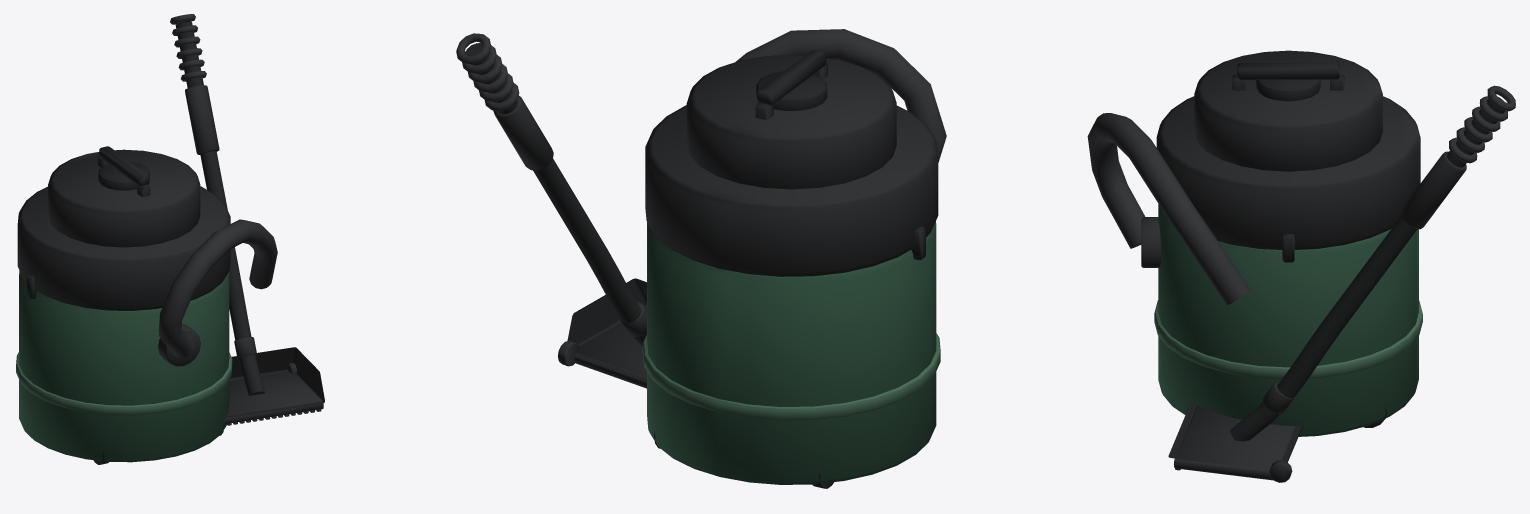
File: asset_071_vacuum_cleaner.glb
3 renders of one model, left to right at view 1: azimuth 30°, elevation 25°; view 2: azimuth 150°, elevation 25°; view 3: azimuth 270°, elevation 25°, orthographic. The views are drawn at different scales.
Visible parts, largest first — view 1: MESH_VacuumMachine, MESH_VacHose, MESH_VacWandSpine, MESH_VacHeadSole, MESH_VacHeadShell, MESH_VacWandGrip; view 2: MESH_VacuumMachine, MESH_VacHose, MESH_VacWandSpine, MESH_VacHeadSole, MESH_VacHeadShell, MESH_VacWandGrip, MESH_VacHoseRib_5; view 3: MESH_VacuumMachine, MESH_VacHose, MESH_VacWandSpine, MESH_VacHeadSole, MESH_VacWandGrip, MESH_VacHeadShell.
Part boxes in pixels (x1,y1,x2,y2): MESH_VacuumMachine: [16, 146, 232, 464]; MESH_VacHose: [158, 219, 277, 357]; MESH_VacWandSpine: [175, 22, 264, 395]; MESH_VacHeadSole: [225, 373, 323, 423]; MESH_VacHeadShell: [224, 347, 324, 418]; MESH_VacWandGrip: [185, 85, 219, 154]; MESH_VacuumMachine: [642, 50, 940, 488]; MESH_VacHose: [736, 29, 946, 162]; MESH_VacWandSpine: [465, 43, 646, 345]; MESH_VacHeadSole: [575, 322, 646, 388]; MESH_VacHeadShell: [567, 278, 646, 382]; MESH_VacWandGrip: [493, 95, 553, 170]; MESH_VacHoseRib_5: [456, 33, 491, 64]; MESH_VacuumMachine: [1141, 50, 1422, 436]; MESH_VacHose: [1087, 113, 1250, 305]; MESH_VacWandSpine: [1230, 97, 1505, 441]; MESH_VacHeadSole: [1174, 405, 1295, 480]; MESH_VacWandGrip: [1400, 151, 1466, 229]; MESH_VacHeadShell: [1168, 402, 1302, 462].
Bounding box in the file's own units: 0.702 × 0.78 × 0.9747.
